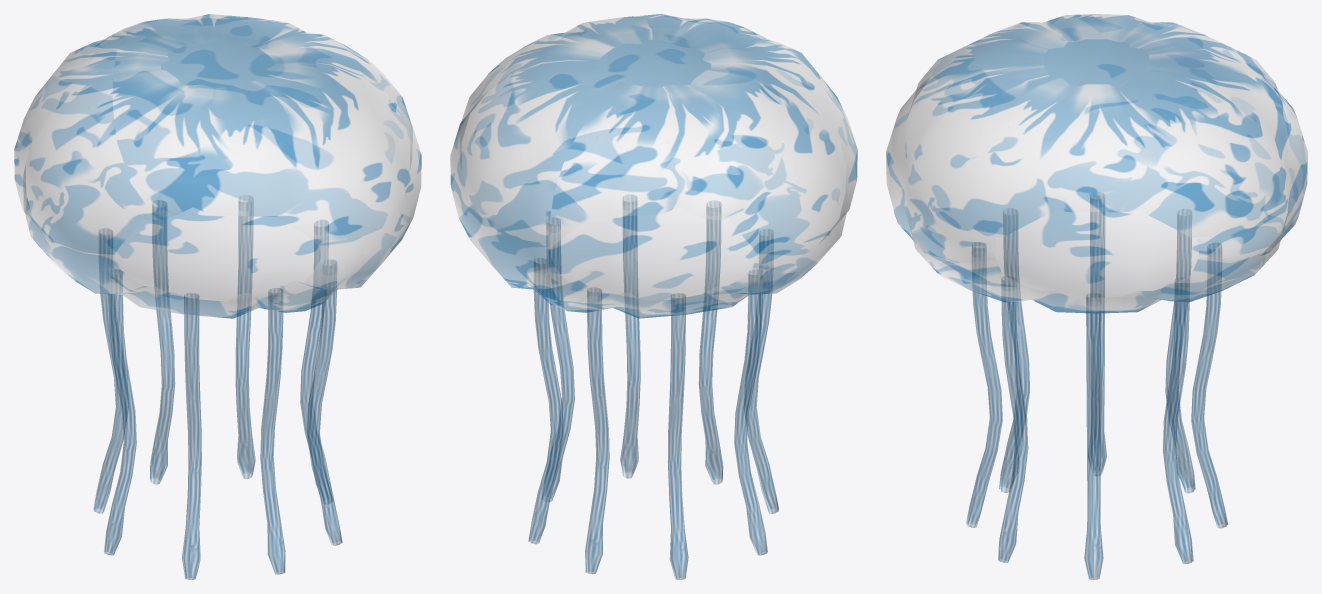
Rendered from JellyFish.fbx.
3 renders of one model, left to right at view 1: azimuth 30°, elevation 25°; view 2: azimuth 150°, elevation 25°; view 3: azimuth 270°, elevation 25°, orthographic.
Parts seen in each view (by area): view 1: polySurface45, T33, T37, T17, T29, T21, T13, T25, T7; view 2: polySurface45, T25, T21, T37, T13, T29, T17, T7, T33; view 3: polySurface45, T7, T13, T17, T37, T21, T29, T33, T25.
Boxes of the visible parts, box(x1,y1,x2,y2) form: polySurface45: box(14, 14, 421, 318); T33: box(182, 293, 201, 579); T37: box(260, 288, 285, 574); T17: box(235, 195, 255, 478); T29: box(103, 269, 136, 555); T21: box(150, 200, 175, 484); T13: box(307, 260, 342, 545); T25: box(93, 228, 128, 513); T7: box(300, 220, 332, 504); polySurface45: box(450, 14, 857, 318); T25: box(668, 293, 688, 579); T21: box(585, 287, 609, 574); T37: box(698, 200, 723, 484); T13: box(620, 194, 640, 478); T29: box(734, 269, 767, 555); T17: box(528, 258, 563, 544); T7: box(542, 217, 574, 501); T33: box(744, 229, 778, 513); polySurface45: box(886, 14, 1307, 313); T7: box(1084, 293, 1103, 579); T13: box(998, 276, 1028, 562); T17: box(1162, 277, 1193, 563); T37: box(966, 242, 1002, 527); T21: box(1191, 243, 1227, 528); T29: box(1088, 192, 1106, 475); T33: box(999, 208, 1029, 492); T25: box(1165, 209, 1195, 493).
Size of the model in its own units: 4.78 by 6.1 by 5.01.
